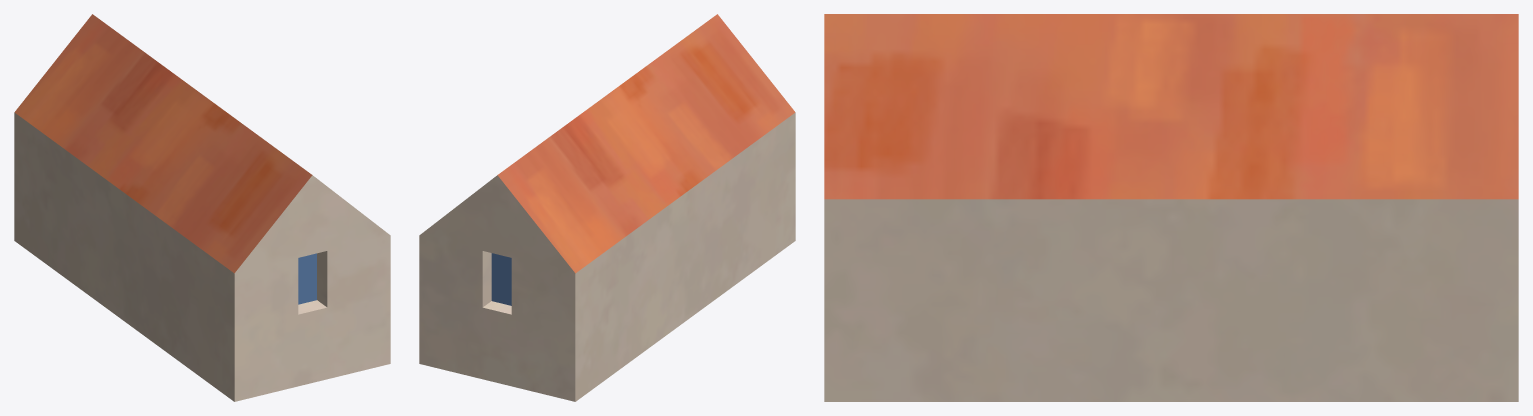
File: house3.fbx
The picture shows the model from 3 angles, left to right: view 1: azimuth 30°, elevation 25°; view 2: azimuth 150°, elevation 25°; view 3: azimuth 270°, elevation 25°; orthographic projection. The views are drawn at different scales.
Visible parts, largest first — view 1: house3; view 2: house3; view 3: house3.
Part boxes in pixels (left/top/right/bottom): house3: left=14, top=14, right=390, bottom=401; house3: left=419, top=14, right=795, bottom=401; house3: left=824, top=14, right=1518, bottom=401.
Bounding box in the file's own units: 200 × 254 × 488.
